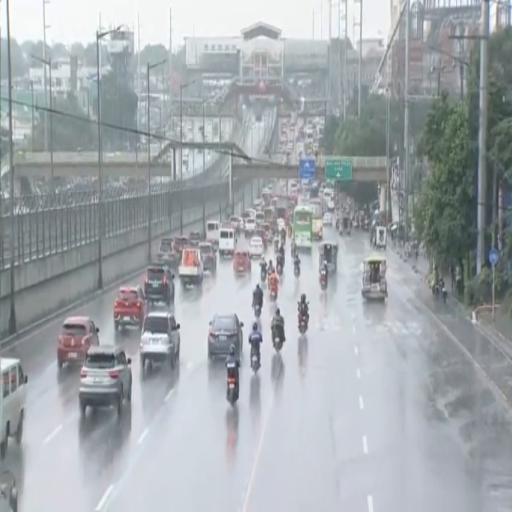bus: (293, 206, 313, 249), (309, 199, 323, 239)
car: (79, 345, 132, 415), (0, 358, 27, 460), (140, 312, 180, 374), (57, 316, 98, 369), (208, 314, 243, 360), (113, 286, 146, 331), (144, 264, 175, 305), (179, 247, 203, 285), (158, 238, 178, 267), (199, 243, 217, 273), (219, 226, 236, 257), (233, 251, 251, 274), (174, 236, 188, 260), (249, 236, 264, 258), (255, 228, 267, 249), (230, 216, 244, 231), (189, 231, 202, 246), (245, 218, 256, 235), (255, 212, 264, 228), (323, 213, 333, 226), (277, 218, 285, 231), (327, 200, 335, 212)
motorcycle: (227, 373, 238, 406), (433, 281, 447, 302), (273, 327, 283, 353), (251, 347, 260, 374), (298, 313, 308, 334), (320, 270, 327, 291), (270, 287, 277, 301), (276, 262, 283, 276), (254, 304, 261, 318), (261, 267, 267, 282), (294, 264, 300, 277), (291, 244, 296, 259), (274, 237, 279, 252)
